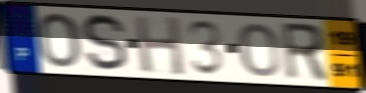3: (187, 19, 225, 77)
H: (133, 14, 187, 78)
O: (36, 11, 82, 70), (236, 22, 282, 79)
R: (278, 21, 330, 84)
S: (80, 12, 130, 73)
